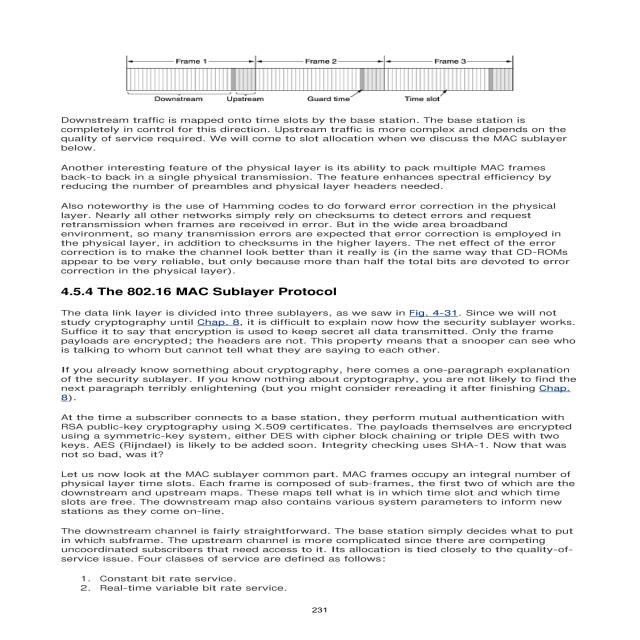diagram: (60, 22, 586, 162)
